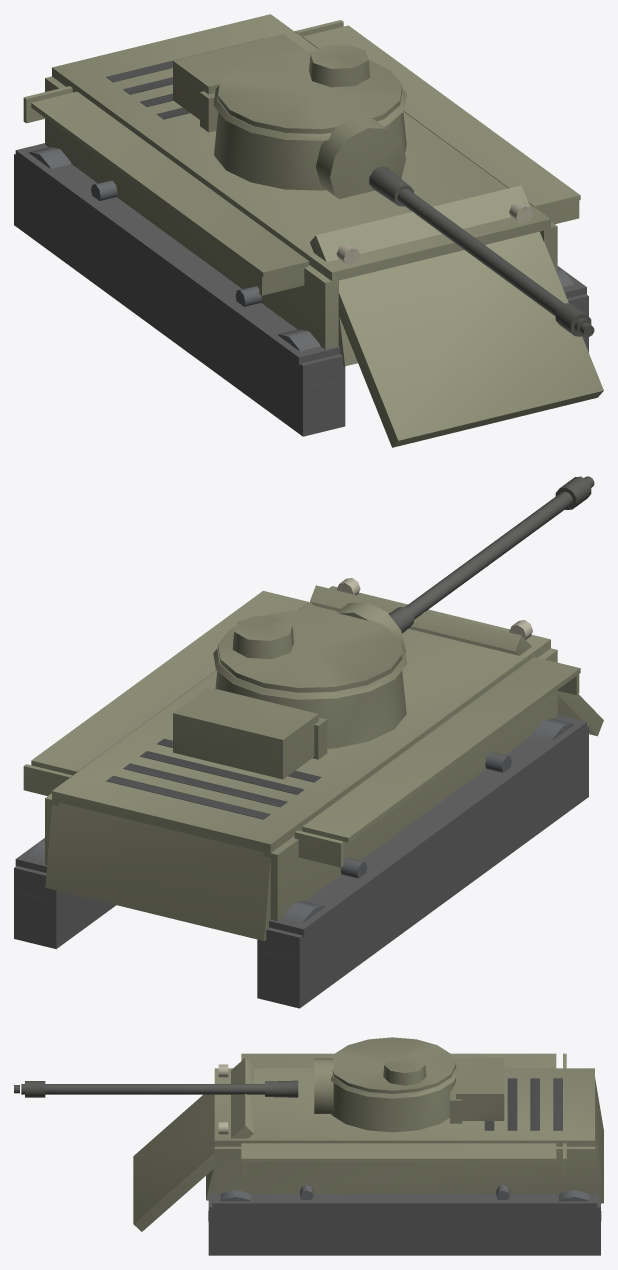
3 renders of one model, top to bottom at view 1: azimuth 30°, elevation 25°; view 2: azimuth 150°, elevation 25°; view 3: azimuth 270°, elevation 25°, orthographic. The views are drawn at different scales.
Parts seen in each view (by area): view 1: glacis, hullSide, tracks, hullTop, turretRoof, turretFront, barrel, mantlet, turretSide, turretRear, wheel6, wheel7; view 2: tracks, hullSide, hullTop, hullRear, turretFront, turretRoof, glacis, barrel, turretSide, mantlet; view 3: tracks, hullSide, hullTop, glacis, turretFront, turretRoof, barrel, mantlet, hullRear, turretSide, turretRear, wheel14 (+1 smaller).
Boxes of the visible parts, <box> form: glacis: <box>310,185,603,447</box>; hullSide: <box>23,20,580,349</box>; tracks: <box>14,143,588,436</box>; hullTop: <box>52,14,550,281</box>; turretRoof: <box>218,44,402,133</box>; turretFront: <box>173,34,406,190</box>; barrel: <box>369,166,594,336</box>; mantlet: <box>316,117,406,199</box>; turretSide: <box>213,85,407,140</box>; turretRear: <box>200,91,218,132</box>; wheel6: <box>278,329,339,387</box>; wheel7: <box>29,147,71,168</box>; tracks: <box>14,715,588,1008</box>; hullSide: <box>23,578,580,921</box>; hullTop: <box>52,586,550,853</box>; hullRear: <box>45,802,270,940</box>; turretFront: <box>173,671,406,779</box>; turretRoof: <box>218,610,402,692</box>; glacis: <box>310,585,603,736</box>; barrel: <box>389,476,594,633</box>; turretSide: <box>213,644,407,699</box>; mantlet: <box>337,602,406,652</box>; tracks: <box>208,1185,600,1255</box>; hullSide: <box>214,1053,594,1194</box>; hullTop: <box>214,1068,594,1146</box>; glacis: <box>133,1058,253,1231</box>; turretFront: <box>331,1057,504,1132</box>; turretRoof: <box>332,1037,455,1093</box>; barrel: <box>14,1080,298,1097</box>; mantlet: <box>314,1058,333,1113</box>; hullRear: <box>594,1078,603,1203</box>; turretSide: <box>330,1060,458,1098</box>; turretRear: <box>450,1061,462,1123</box>; wheel14: <box>208,1190,250,1221</box>.
Bounding box in the file's own units: 4.12 × 2.85 × 9.77.
